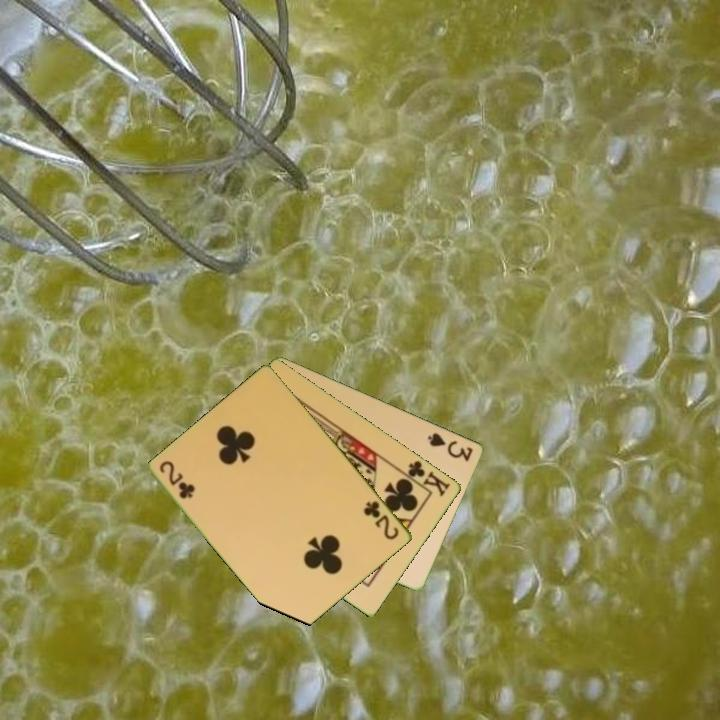2c: (360, 497, 402, 543), (156, 457, 198, 502)
3s: (424, 429, 476, 464)
Kc: (398, 457, 454, 499)
